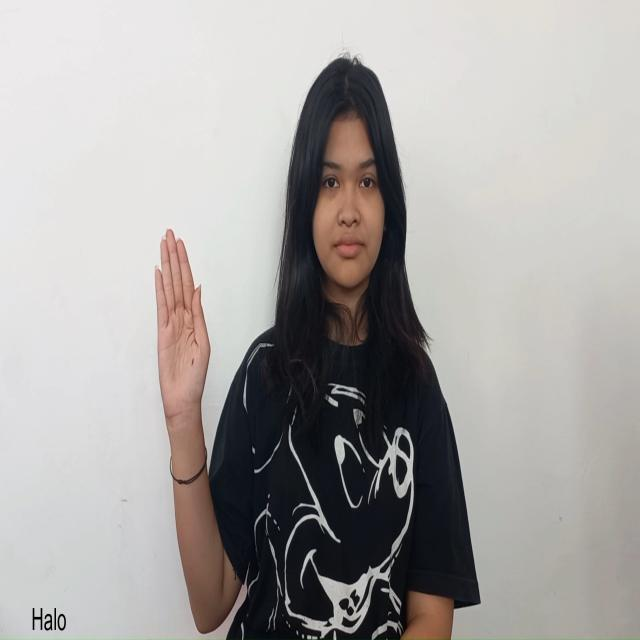Halo -BISINDO-: (153, 226, 212, 454)
